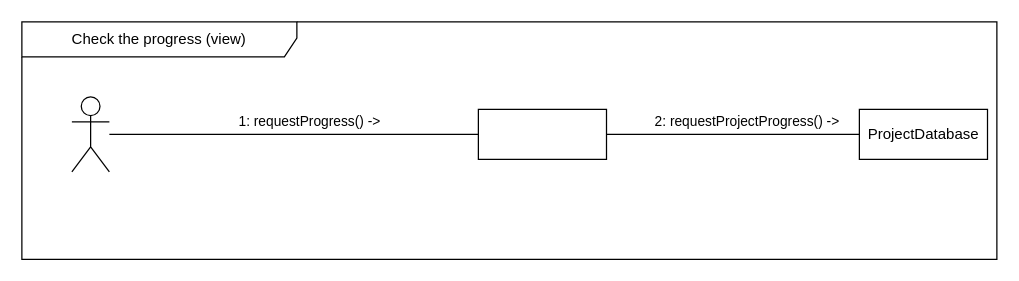
The diagram is 1019 pixels wide and 281 high, and some of its shapes have lost their labels. The centre of each missing label's shape, as x and y in pixels:
"Project manager" goes at [90,134].
"System" goes at [541,133].
